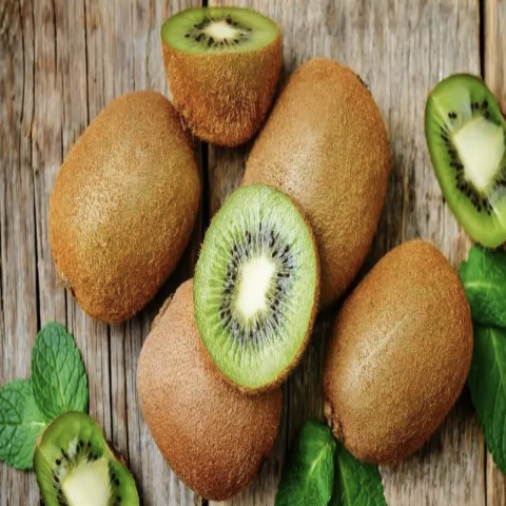kiwi: (228, 40, 394, 318), (39, 91, 221, 333), (122, 245, 290, 505), (322, 227, 489, 486)
